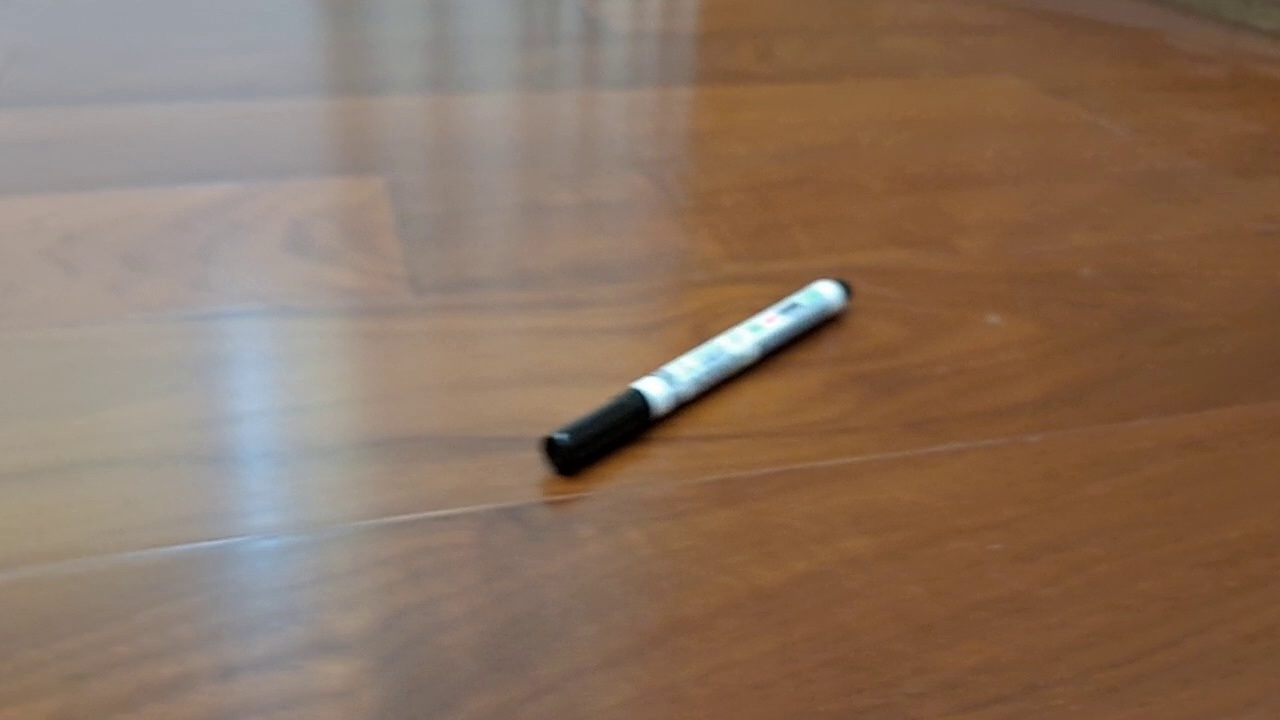pen: (543, 276, 853, 478)
